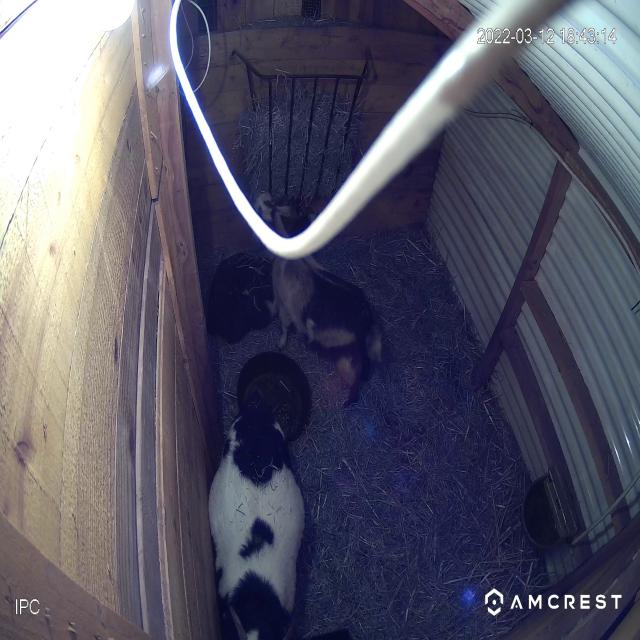goat: (246, 196, 404, 425), (204, 390, 305, 640)
